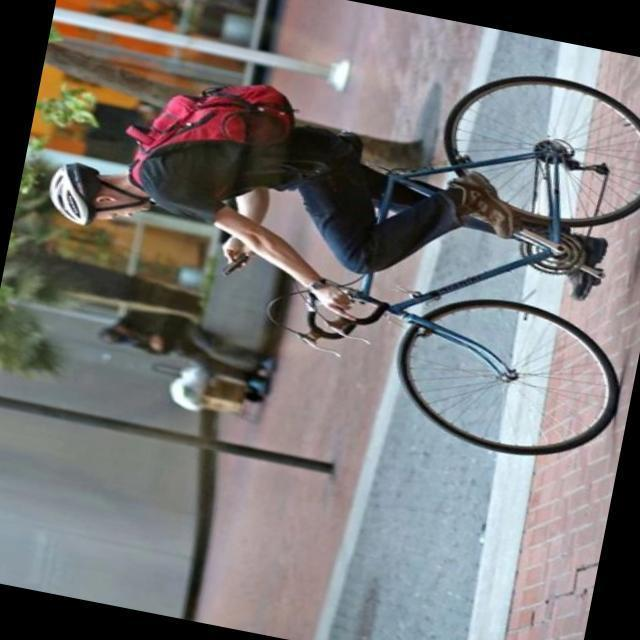use_mobile: (222, 198, 268, 276)
with_helmet: (45, 160, 153, 227)
